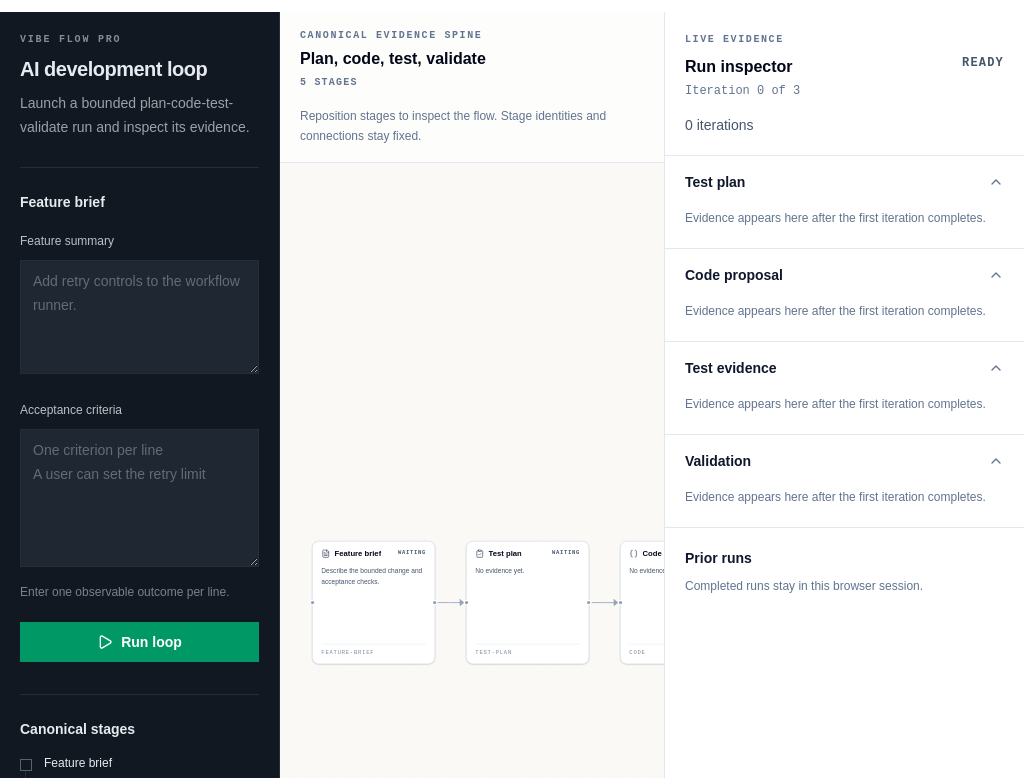
it: DevelopmentLoopWorkspace › revises once and then passes with preserved validation feedback
Type "Add retry controls" into the text box labelled "Feature summary" at (140, 317), box [20,260,259,374]
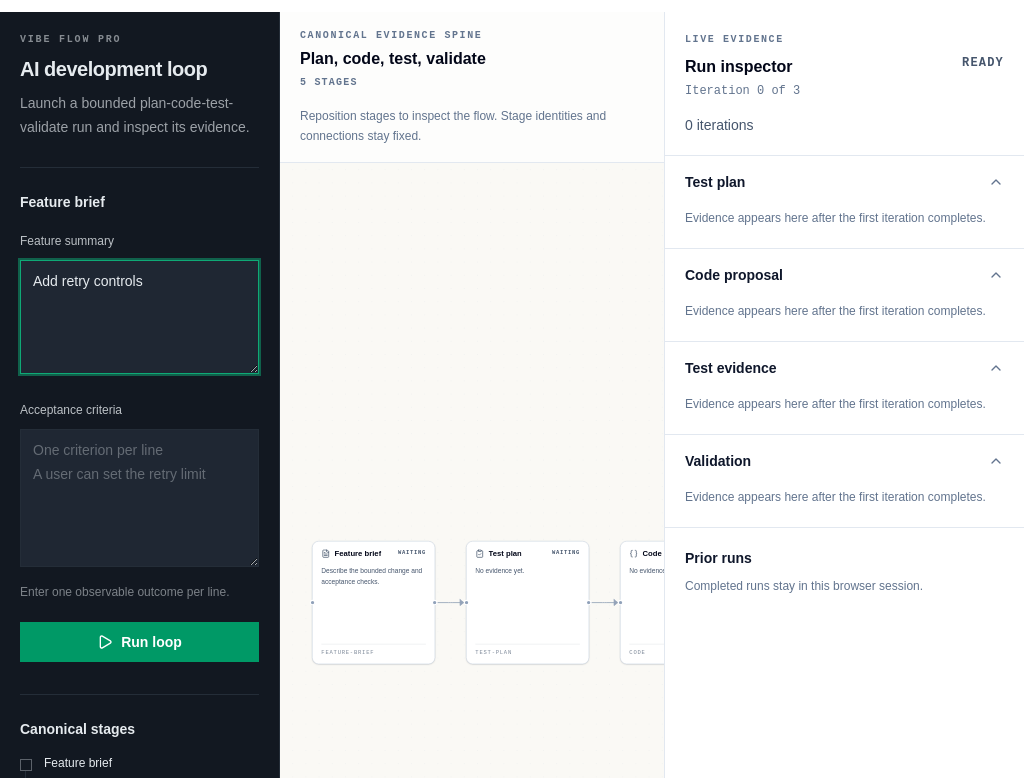
Type "A user can set the retry limit" into the text box labelled "Acceptance criteria" at (140, 498), box [20,429,259,567]
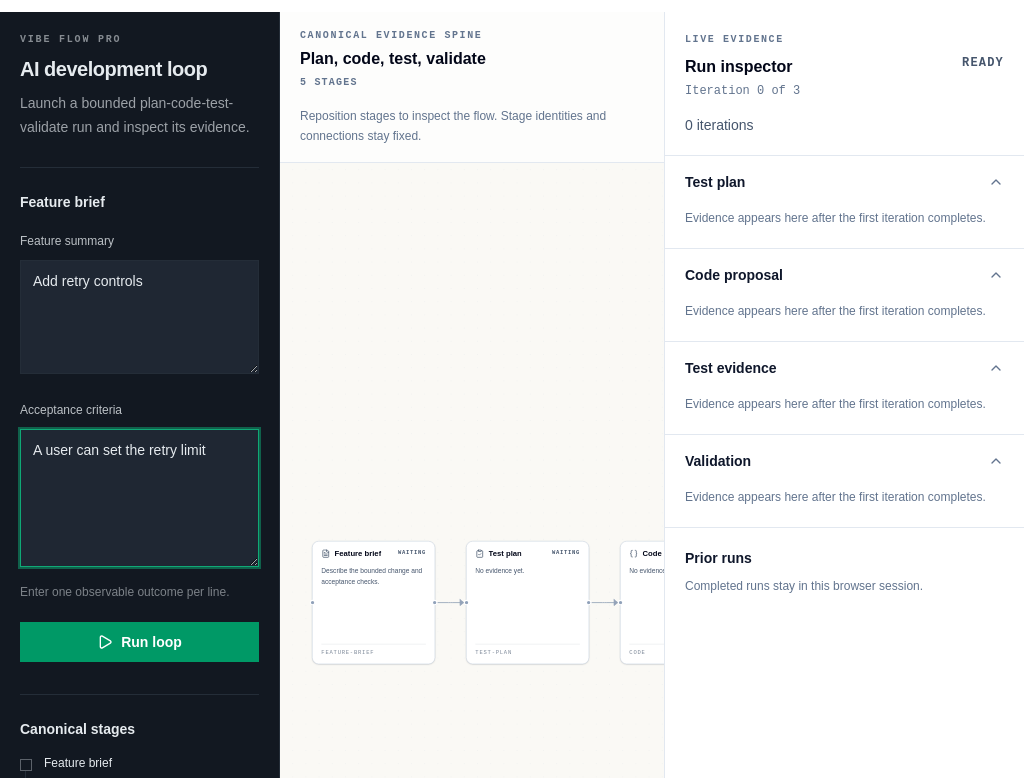
Click the button "Run loop" at (140, 642), box [20,622,259,662]
(page scrolled)
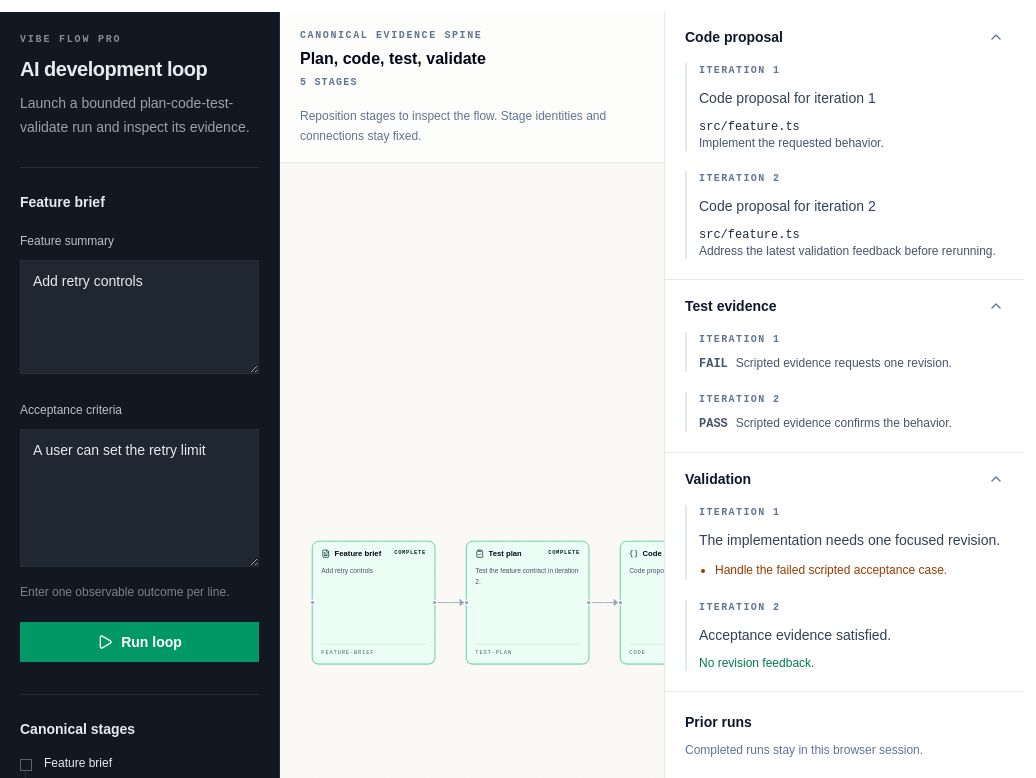
Expected: the list item "Handle the failed scripted acceptance case." is shown, [715,563,947,577]
